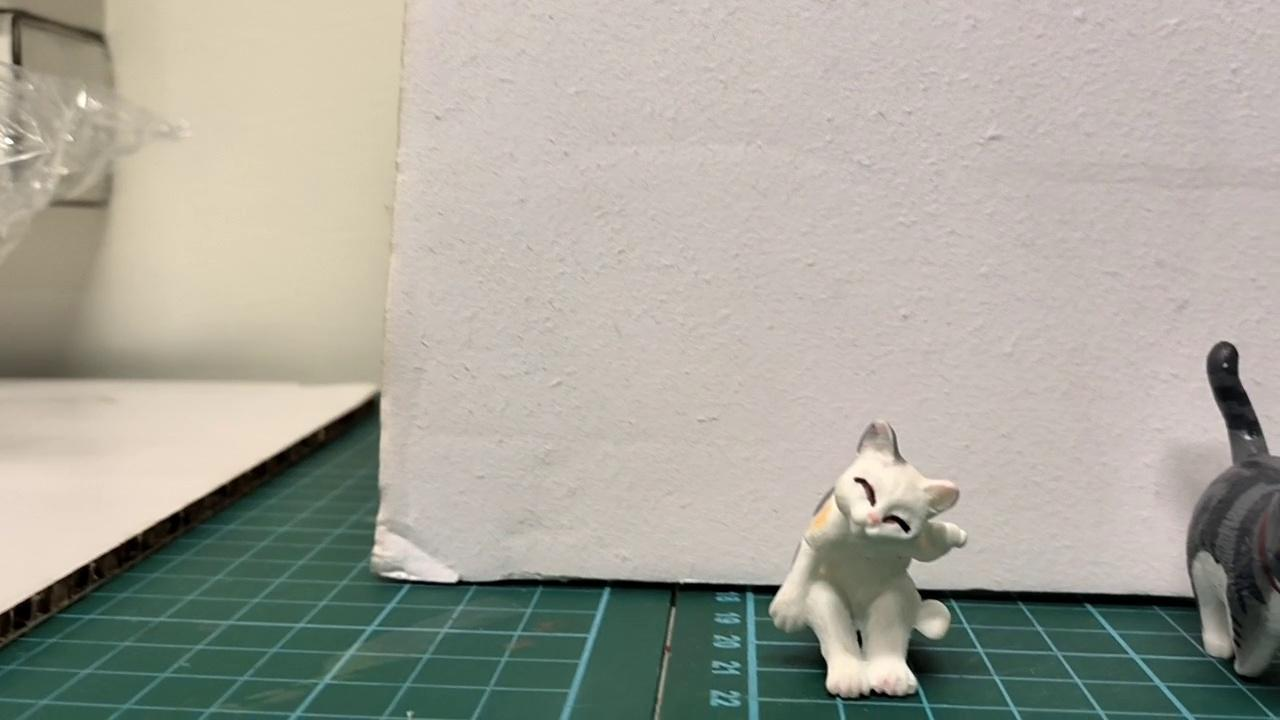pet: (766, 416, 965, 701), (1181, 336, 1280, 678)
